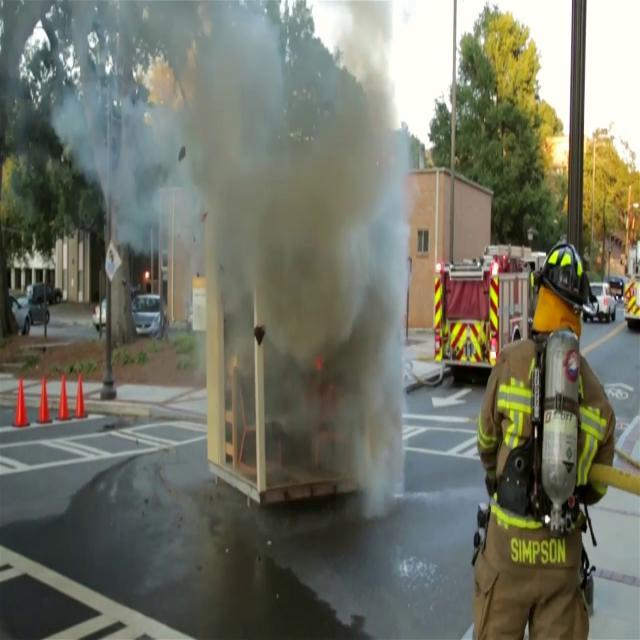Smoke: (172, 0, 424, 517), (56, 15, 182, 253)
